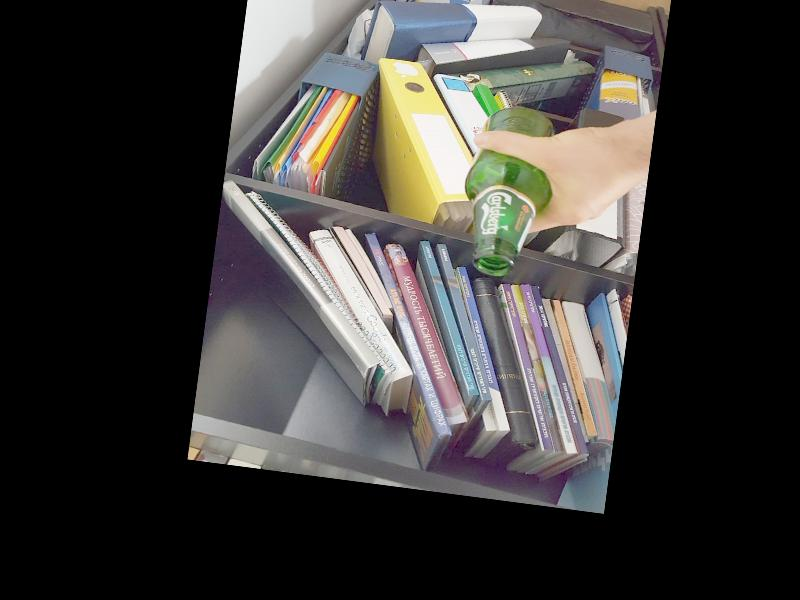Beer: (455, 99, 559, 281)
